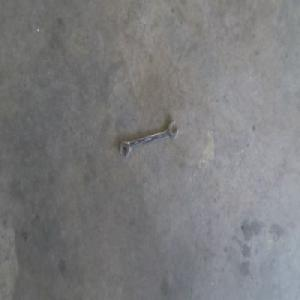Wrench: (119, 120, 180, 159)
